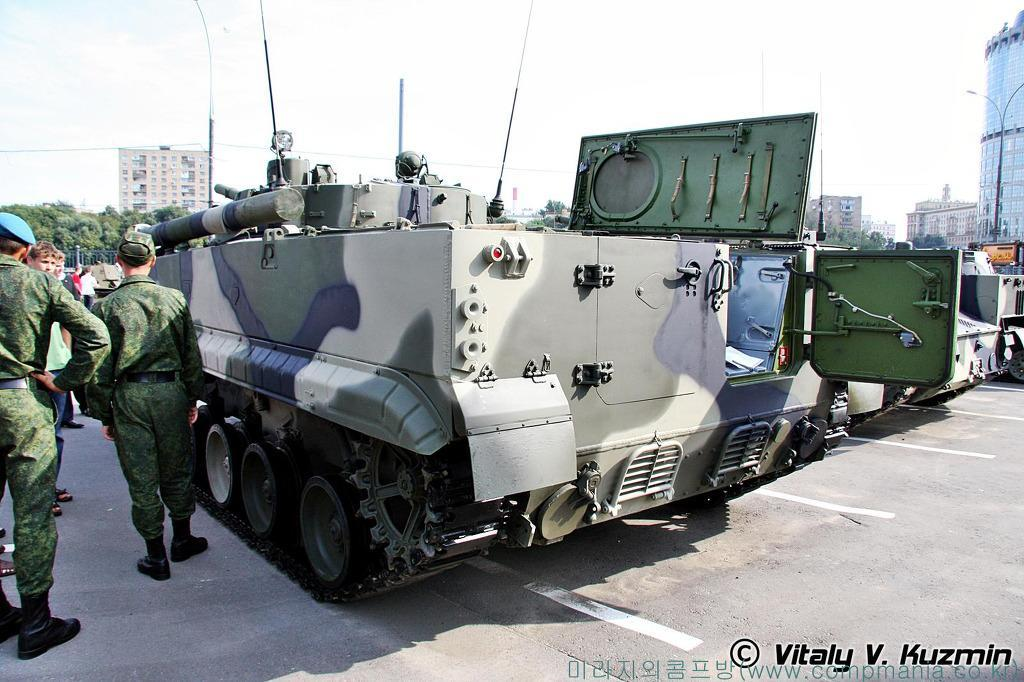MIL_IFV: (81, 123, 962, 610)
